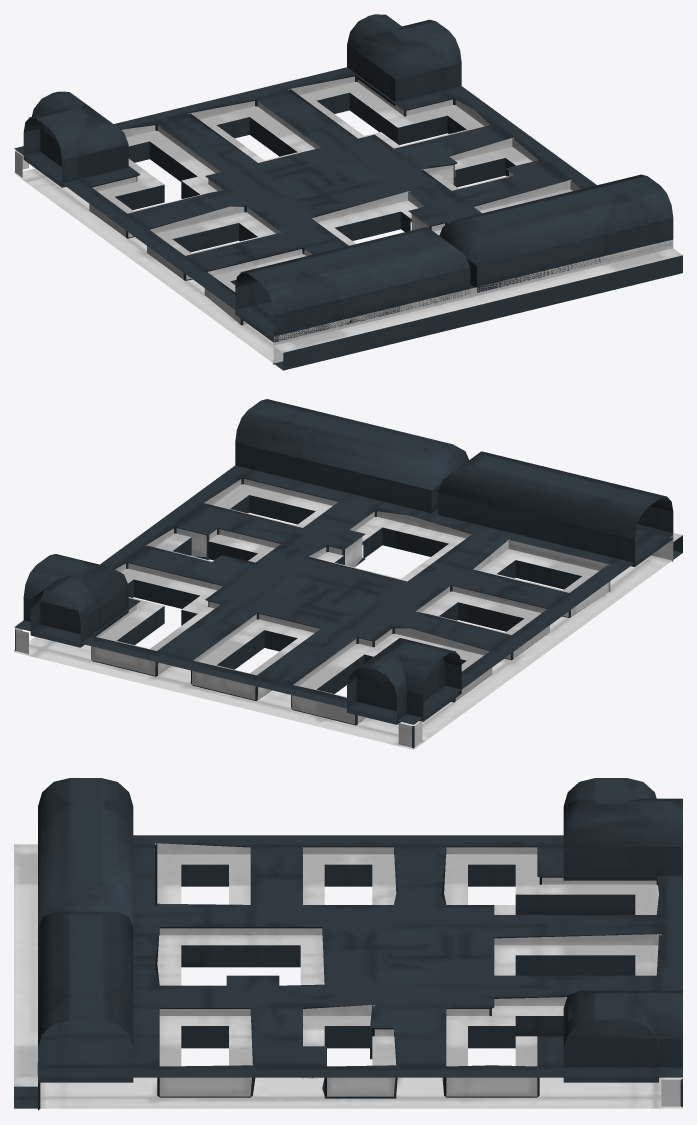
File: delbld-girder-597.glb
The picture shows the model from 3 angles, top to bottom: view 1: azimuth 30°, elevation 25°; view 2: azimuth 150°, elevation 25°; view 3: azimuth 270°, elevation 25°; orthographic projection. The views are drawn at different scales.
Parts seen in each view (by area): view 1: delbld-girder-597; view 2: delbld-girder-597; view 3: delbld-girder-597.
Boxes of the visible parts, bbox=[...] form: delbld-girder-597: bbox=[14, 14, 682, 370]; delbld-girder-597: bbox=[14, 399, 682, 749]; delbld-girder-597: bbox=[14, 778, 682, 1110].
Bounding box in the file's own units: 2 × 0.3483 × 2.33.
Materials: 3 (3 with a texture image).
